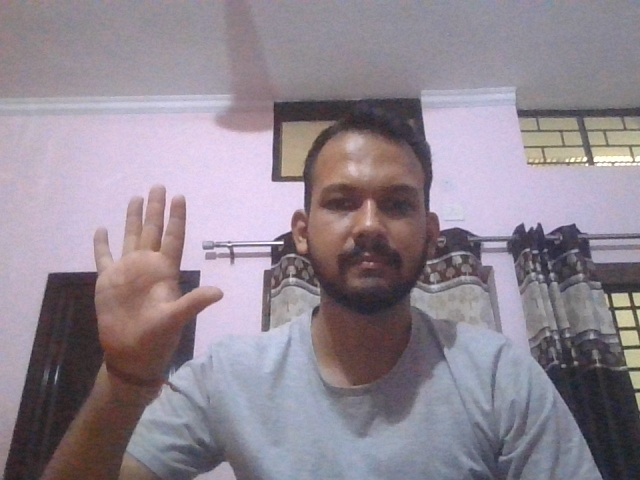hello: (92, 185, 224, 369)
